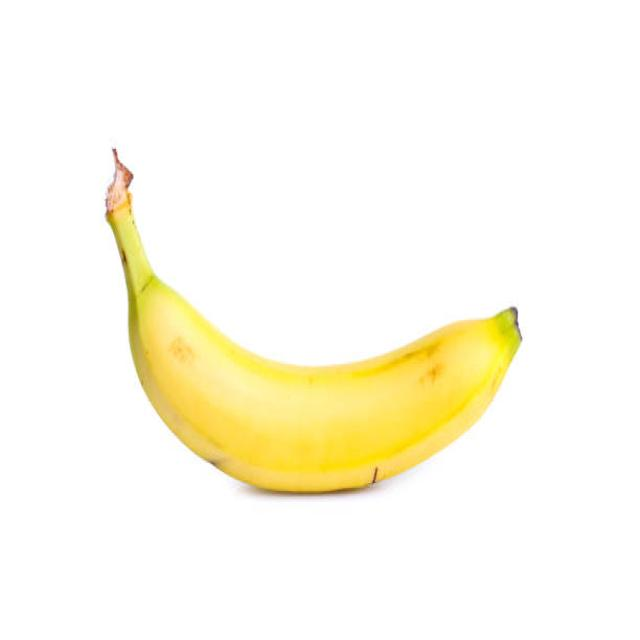banana: (100, 146, 522, 497)
